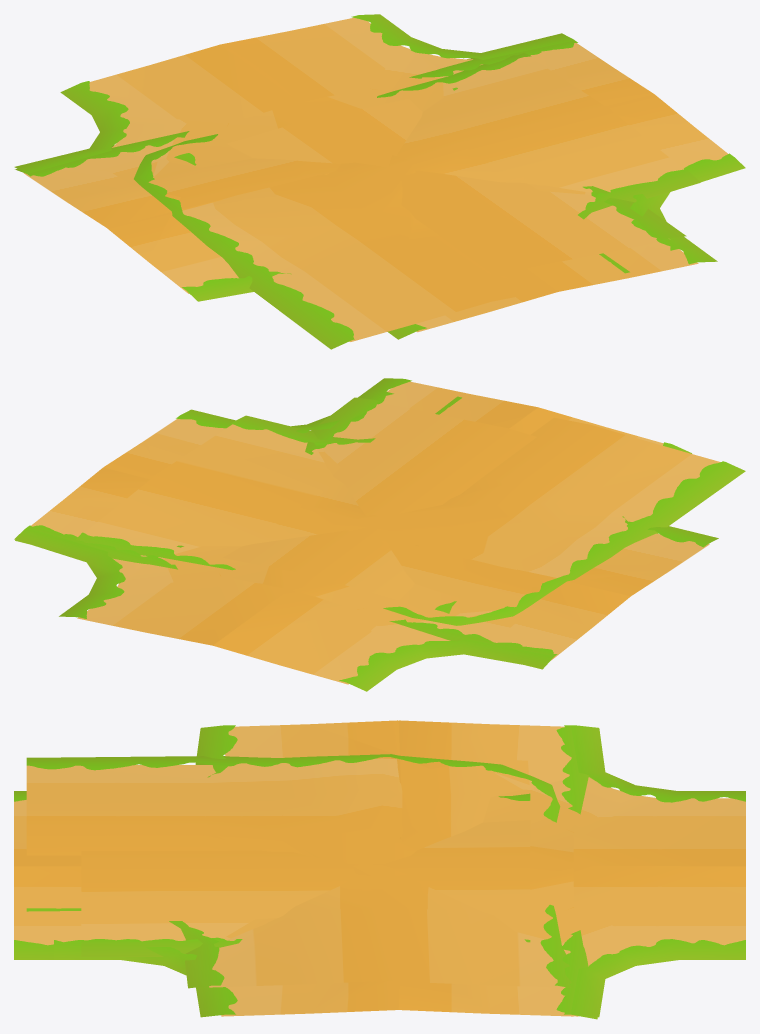
The model's file is Dirt_Roads.fbx.
3 renders of one model, top to bottom at view 1: azimuth 30°, elevation 25°; view 2: azimuth 150°, elevation 25°; view 3: azimuth 270°, elevation 25°, orthographic. The views are drawn at different scales.
Visible parts, largest first — view 1: Dirt_Road_Turn, Dirt_Road_Cross, Dirt_Road_Straight, Dirt_Road_Split; view 2: Dirt_Road_Turn, Dirt_Road_Cross, Dirt_Road_Straight, Dirt_Road_Split; view 3: Dirt_Road_Turn, Dirt_Road_Cross, Dirt_Road_Straight, Dirt_Road_Split.
Part boxes in pixels (<box>): Dirt_Road_Turn: <box>134,53,700,349</box>; Dirt_Road_Cross: <box>14,14,727,301</box>; Dirt_Road_Straight: <box>174,87,686,276</box>; Dirt_Road_Split: <box>15,40,745,339</box>; Dirt_Road_Turn: <box>76,396,745,625</box>; Dirt_Road_Cross: <box>14,391,718,691</box>; Dirt_Road_Straight: <box>177,397,536,613</box>; Dirt_Road_Split: <box>15,378,716,669</box>; Dirt_Road_Turn: <box>26,754,571,988</box>; Dirt_Road_Cross: <box>54,720,745,1017</box>; Dirt_Road_Straight: <box>81,793,530,956</box>; Dirt_Road_Split: <box>14,720,597,1019</box>.
Bounding box in the file's own units: 306 × 6.19 × 327.
